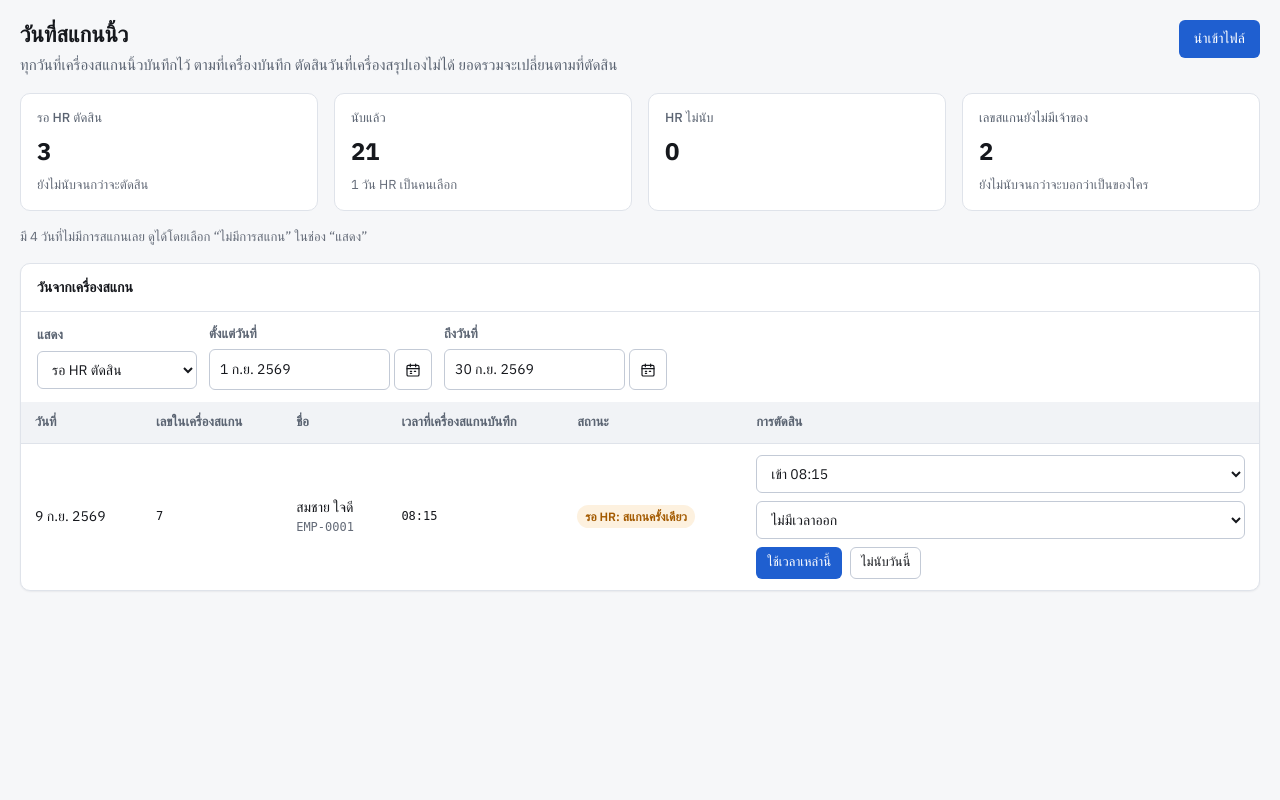
Test: Reviewing the scanner’s days (CW-061) › says when only one time was counted, not a dash
Expected: the cell "08:15" is shown, [387,443,563,590]
Click the button "ใช้เวลาเหล่านี้" at (799,562), box [756,546,842,578]
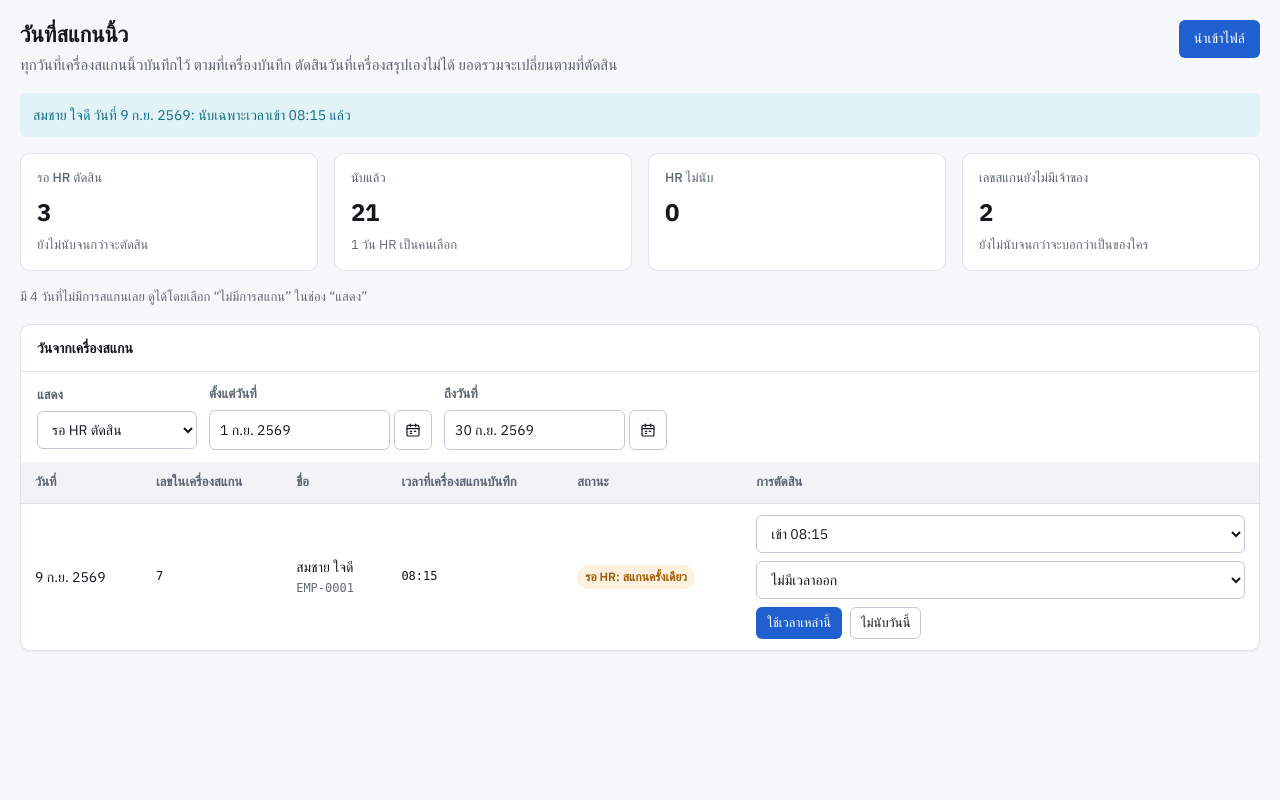
Expected: the message reads "สมชาย ใจดี วันที่ 9 ก.ย. 2569: นับเฉพาะเวลาเข้า 08:15 แล้ว", [33,106,351,124]
